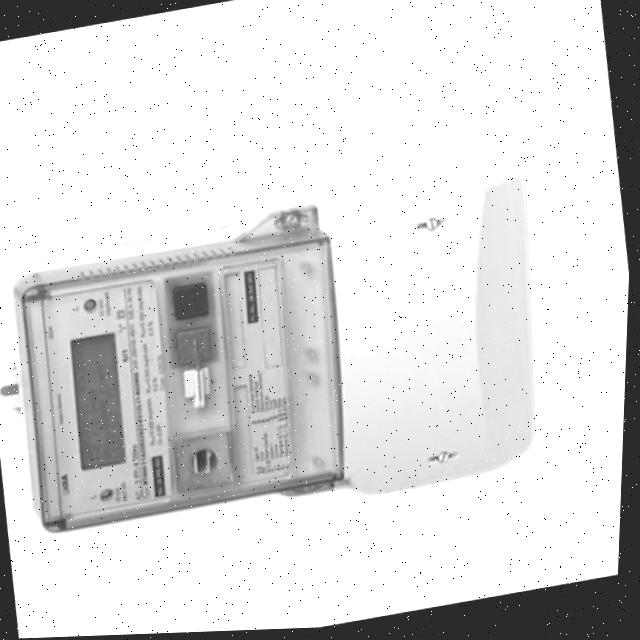electric-meter-detection: (0, 165, 532, 534)
